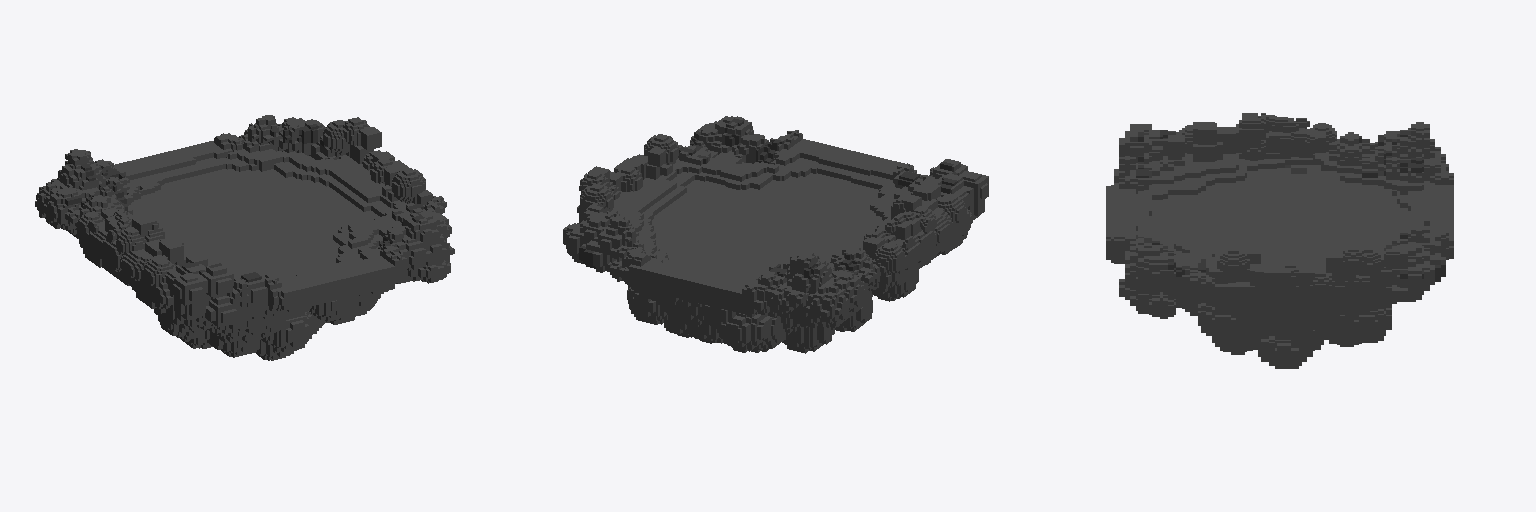
3 views of the same model, side by side, from view 1: azimuth 30°, elevation 25°; view 2: azimuth 150°, elevation 25°; view 3: azimuth 270°, elevation 25° (orthographic).
Visible parts, largest first — view 1: Model; view 2: Model; view 3: Model.
Part boxes in pixels (x1,y1,x2,y2): Model: (35, 115, 454, 360); Model: (563, 116, 988, 353); Model: (1106, 113, 1453, 368).
Size of the model in its own units: 32 by 15.51 by 31.51.
Materials: 1 (1 with a texture image).